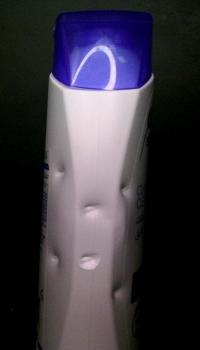dent_unacceptable: (71, 246, 115, 277), (44, 154, 78, 183), (100, 279, 134, 305), (109, 174, 139, 198), (77, 200, 107, 221), (43, 243, 62, 272)
